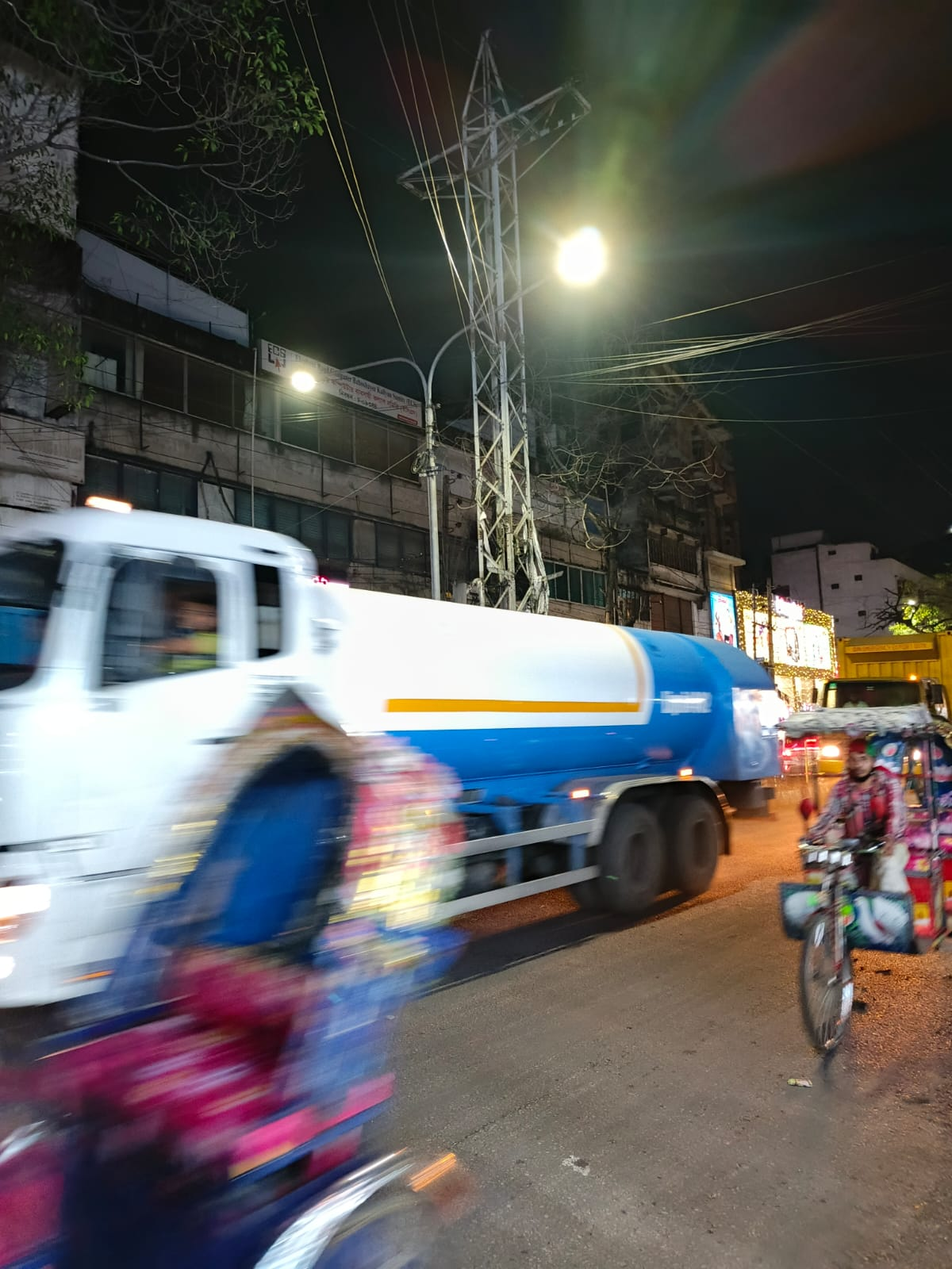Truck: (0, 449, 793, 917)
auto-ricksaw: (0, 683, 484, 1269)
